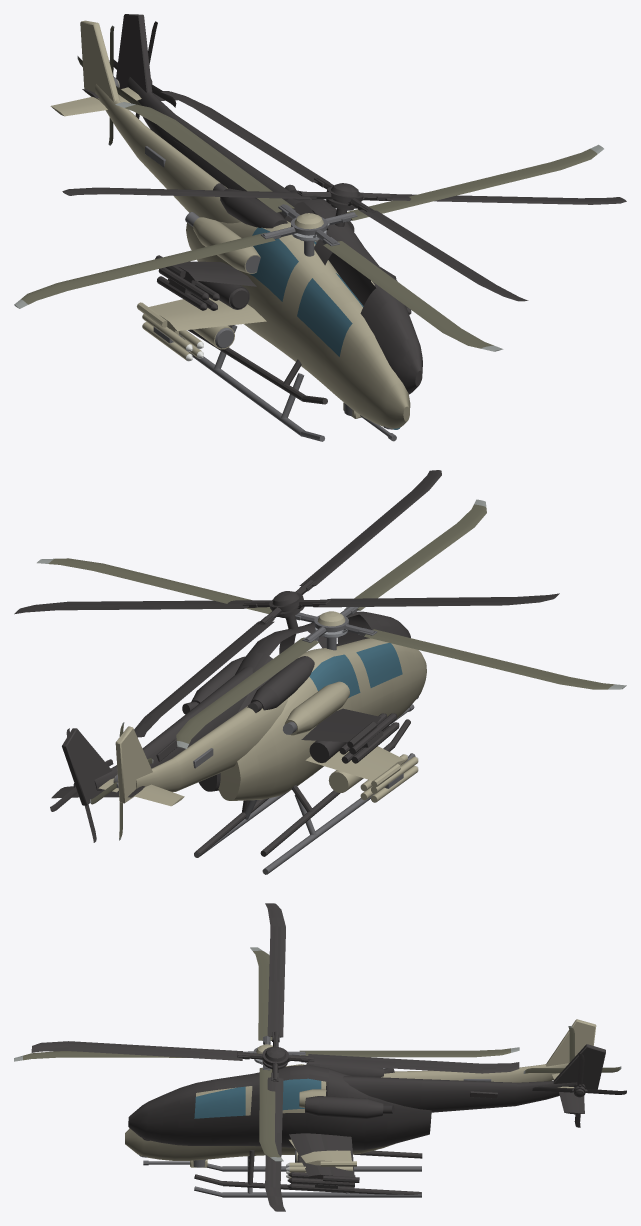
The model's file is gunship__lch_prachand.glb.
The picture shows the model from 3 angles, top to bottom: view 1: azimuth 30°, elevation 25°; view 2: azimuth 150°, elevation 25°; view 3: azimuth 270°, elevation 25°; orthographic projection. The views are drawn at different scales.
Parts seen in each view (by area): view 1: Wreck, Fuselage_Mesh, Rotor_Main_Mesh, Stub_Wings_Stores_Mesh, Engines_Mesh, Landing_Gear_Mesh; view 2: Wreck, Fuselage_Mesh, Rotor_Main_Mesh, Stub_Wings_Stores_Mesh, Engines_Mesh, Landing_Gear_Mesh; view 3: Wreck, Fuselage_Mesh, Rotor_Main_Mesh, Landing_Gear_Mesh, Stub_Wings_Stores_Mesh, Rotor_Tail_Mesh.
Part boxes in pixels (x1,y1,x2,y2): Wreck: (62, 14, 626, 404); Fuselage_Mesh: (50, 20, 410, 429); Rotor_Main_Mesh: (14, 102, 603, 351); Stub_Wings_Stores_Mesh: (137, 280, 374, 361); Engines_Mesh: (185, 212, 318, 273); Landing_Gear_Mesh: (188, 325, 324, 441); Wreck: (14, 470, 559, 856); Fuselage_Mesh: (98, 638, 426, 806); Rotor_Main_Mesh: (37, 499, 626, 748); Stub_Wings_Stores_Mesh: (305, 746, 418, 802); Engines_Mesh: (283, 681, 349, 735); Landing_Gear_Mesh: (194, 753, 415, 874); Wreck: (31, 903, 626, 1211); Fuselage_Mesh: (125, 1019, 596, 1160); Rotor_Main_Mesh: (14, 947, 519, 1161); Landing_Gear_Mesh: (194, 1156, 421, 1197); Stub_Wings_Stores_Mesh: (286, 1139, 356, 1178); Rotor_Tail_Mesh: (523, 1026, 621, 1114).
Size of what is drawn, in the model's own units: 13.69 by 5.64 by 16.
